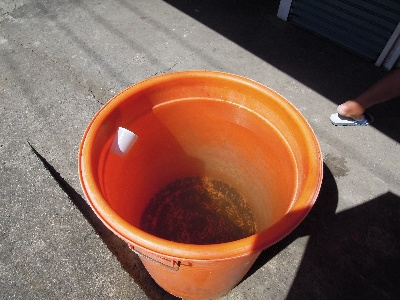bucket: (77, 68, 325, 300)
